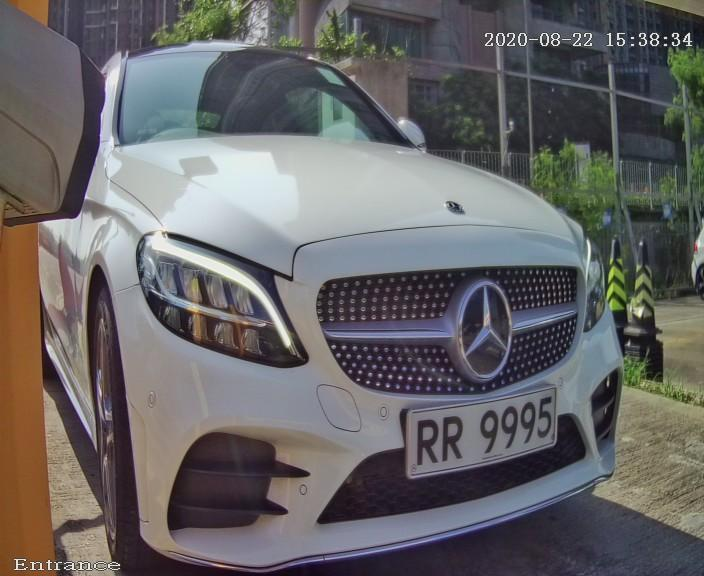Car: (7, 1, 667, 576)
License Plate: (353, 360, 593, 493)
